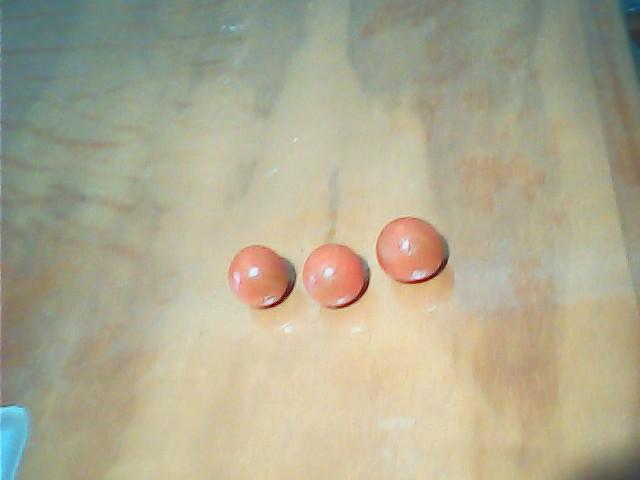maduro: (376, 217, 445, 284), (227, 244, 289, 312), (303, 241, 365, 307)
